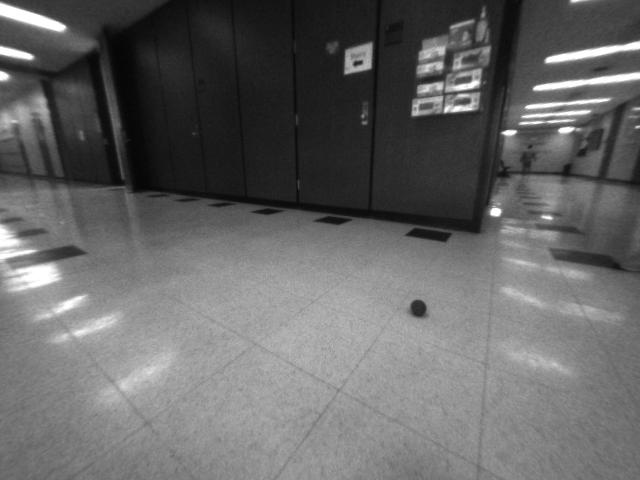dogtoy: (403, 292, 434, 322)
